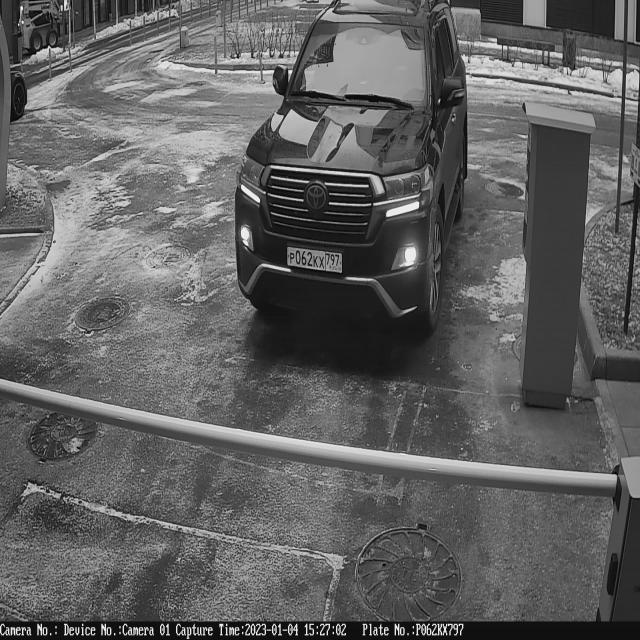car-plate-numbers: (285, 244, 347, 276)
